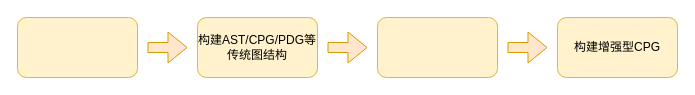
The diagram is 695 pixels wide and 95 high, and some of its shapes have lost their labels. The shapes that lost their labels are listed below. From the top down, each one's centre as x and y in pixels, then its label:
At (77,47): "反编译".
At (437,47): "构建补充子图".
